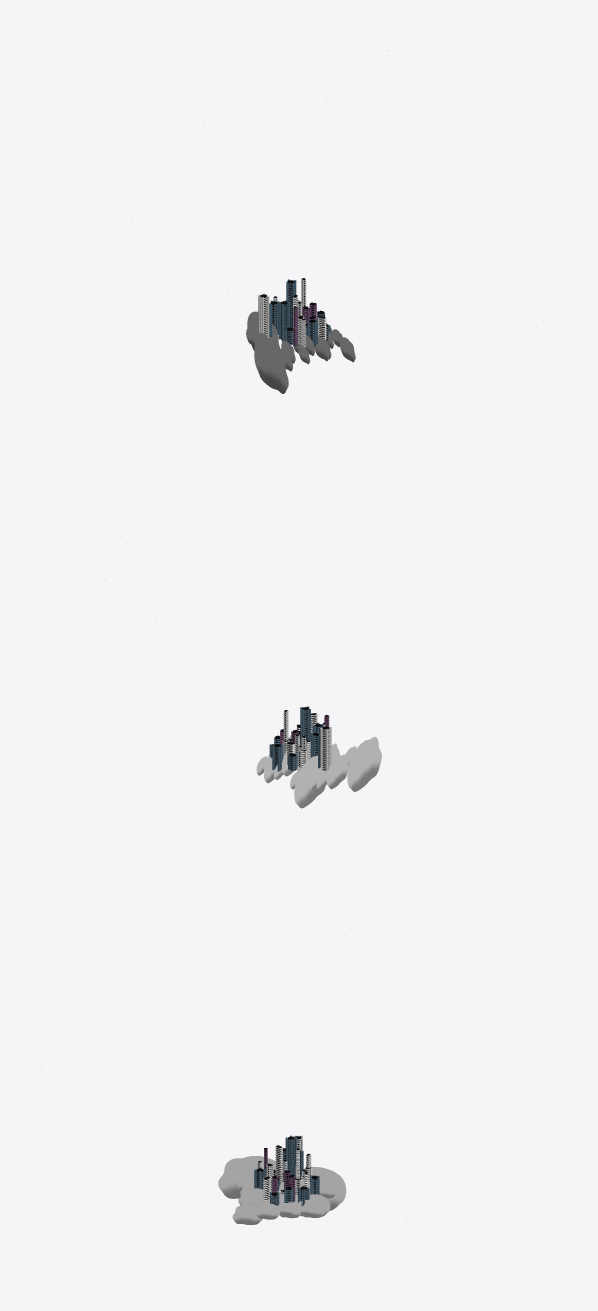
Rendered from scifi_city_001.fbx.
The picture shows the model from 3 angles, top to bottom: view 1: azimuth 30°, elevation 25°; view 2: azimuth 150°, elevation 25°; view 3: azimuth 270°, elevation 25°; orthographic projection.
Parts seen in each view (by area): view 1: cloud.023; view 2: cloud.023, cloud.014, cloud.029; view 3: cloud.023, cloud.014.
Boxes of the visible parts, x1,y1,x2,y2 form: cloud.023: (254,339,288,393); cloud.023: (347,737,381,791); cloud.014: (294,755,325,808); cloud.029: (326,754,348,789); cloud.023: (218,1156,275,1198); cloud.014: (303,1167,346,1210).
Bounding box in the file's own units: 31103 × 20044 × 31409.
